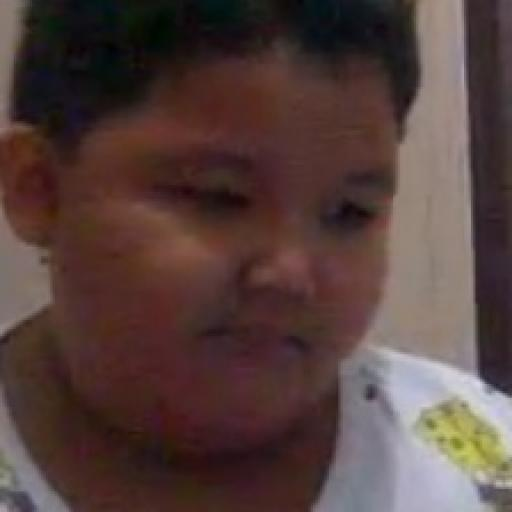Autism: (34, 0, 454, 450)
